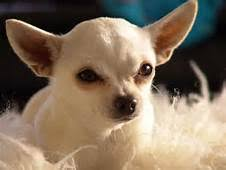chihuahua: (3, 3, 201, 165)
